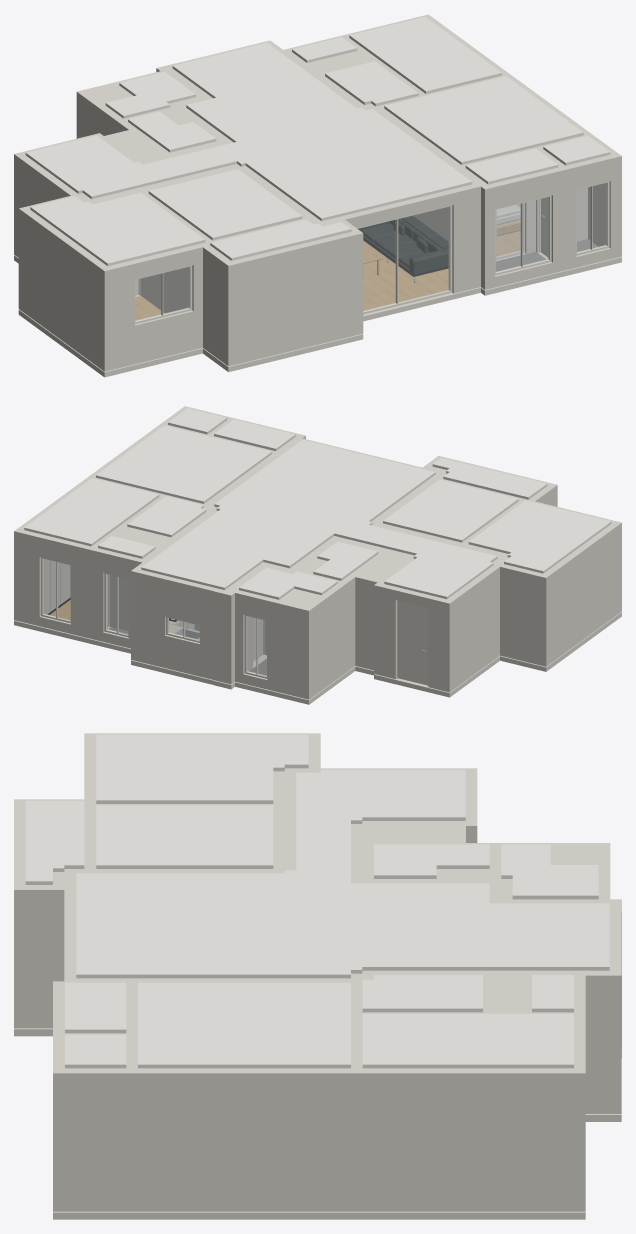
File: acro112a-expanded.glb
The picture shows the model from 3 angles, top to bottom: view 1: azimuth 30°, elevation 25°; view 2: azimuth 150°, elevation 25°; view 3: azimuth 270°, elevation 25°; orthographic projection. The views are drawn at different scales.
Visible parts, largest first — view 1: Ceiling/02, Wall/layer-10/00, Wall/layer-01/00, Ceiling/09, Ceiling/03, Ceiling/07, Ceiling/04, sliding-16/glass-1, Wall/layer-00/00, Base/00, Wall/layer-03/01, Wall/layer-04/01 (+38 smaller); view 2: Ceiling/02, Wall/layer-10/00, Ceiling/09, Ceiling/03, Ceiling/07, Ceiling/04, Wall/layer-01/00, Wall/layer-00/01, Base/00, Wall/layer-01/05, Wall/layer-03/00, Wall/layer-04/00 (+39 smaller); view 3: Ceiling/02, Wall/layer-10/00, Wall/layer-01/03, Ceiling/09, Wall/layer-03/04, Wall/layer-04/04, Ceiling/03, Ceiling/07, Ceiling/04, Wall/layer-00/01, Base/00, Ceiling/05 (+20 smaller).
Part boxes in pixels (bbox=[...]): Ceiling/02: bbox=[25, 42, 472, 220]; Wall/layer-10/00: bbox=[14, 14, 621, 281]; Wall/layer-01/00: bbox=[14, 218, 363, 360]; Ceiling/09: bbox=[384, 76, 583, 164]; Ceiling/03: bbox=[30, 193, 205, 265]; Ceiling/07: bbox=[349, 16, 501, 93]; Ceiling/04: bbox=[148, 169, 302, 240]; sliding-16/glass-1: bbox=[398, 207, 449, 302]; Wall/layer-00/00: bbox=[14, 244, 363, 371]; Base/00: bbox=[14, 252, 621, 377]; Wall/layer-03/01: bbox=[163, 268, 363, 327]; Wall/layer-04/01: bbox=[183, 257, 363, 307]; Ceiling/02: bbox=[141, 439, 497, 599]; Wall/layer-10/00: bbox=[14, 406, 621, 620]; Ceiling/09: bbox=[96, 425, 272, 503]; Ceiling/03: bbox=[468, 500, 611, 573]; Ceiling/07: bbox=[24, 478, 159, 546]; Ceiling/04: bbox=[383, 479, 518, 542]; Wall/layer-01/00: bbox=[443, 579, 621, 682]; Wall/layer-00/01: bbox=[14, 610, 380, 699]; Base/00: bbox=[14, 612, 621, 704]; Wall/layer-01/05: bbox=[109, 594, 252, 674]; Wall/layer-03/00: bbox=[443, 560, 621, 658]; Wall/layer-04/00: bbox=[443, 544, 621, 640]; Ceiling/02: bbox=[76, 769, 609, 978]; Wall/layer-10/00: bbox=[14, 733, 621, 1088]; Wall/layer-01/03: bbox=[53, 1161, 585, 1196]; Ceiling/09: bbox=[138, 982, 350, 1068]; Wall/layer-03/04: bbox=[53, 1131, 585, 1158]; Wall/layer-04/04: bbox=[53, 1106, 585, 1131]; Ceiling/03: bbox=[96, 734, 308, 803]; Ceiling/07: bbox=[362, 1013, 573, 1068]; Ceiling/04: bbox=[96, 805, 273, 868]; Wall/layer-00/01: bbox=[53, 1036, 621, 1211]; Base/00: bbox=[14, 1028, 621, 1219]; Ceiling/05: bbox=[25, 800, 84, 884].
Bounding box in the file's own units: 13.7 × 2.82 × 10.35.
27 materials, 6 textured.
